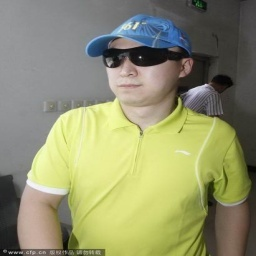noWear: (102, 44, 193, 104)
